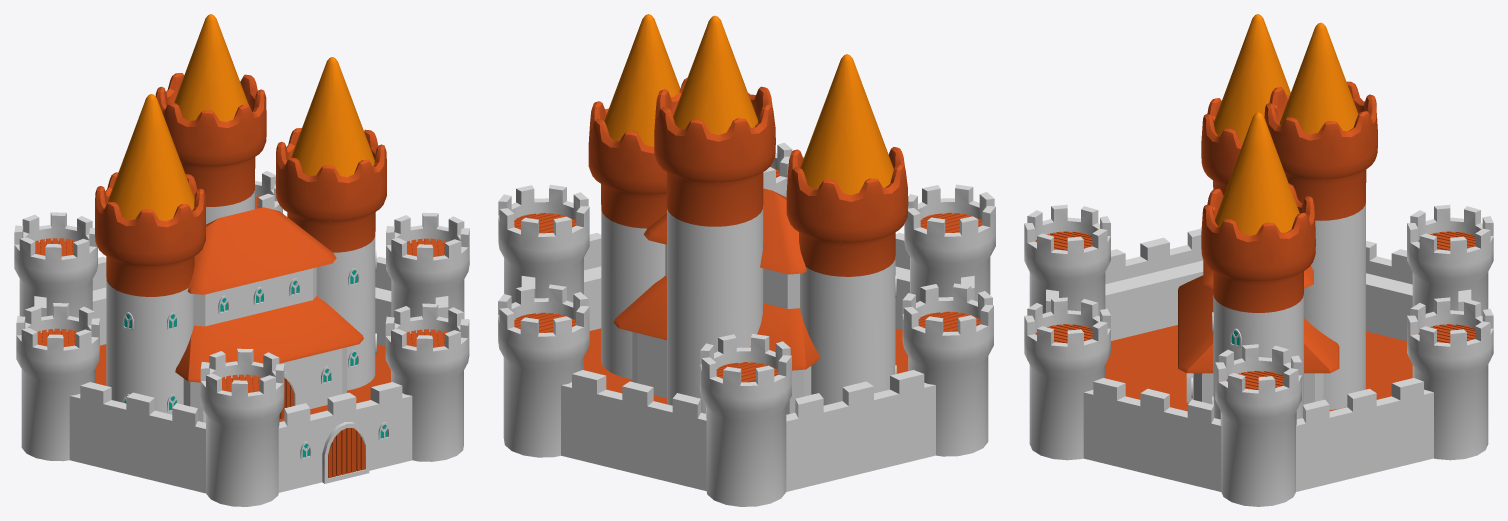
Rendered from Hex_Castle_Upgrade1_Stage1.fbx.
3 renders of one model, left to right at view 1: azimuth 30°, elevation 25°; view 2: azimuth 150°, elevation 25°; view 3: azimuth 270°, elevation 25°, orthographic. The views are drawn at different scales.
Visible parts, largest first — view 1: Hexagon_Castle_Upgrade1_Stage1; view 2: Hexagon_Castle_Upgrade1_Stage1; view 3: Hexagon_Castle_Upgrade1_Stage1.
Boxes of the visible parts, x1,y1,x2,y2 form: Hexagon_Castle_Upgrade1_Stage1: (14,14,469,506); Hexagon_Castle_Upgrade1_Stage1: (498,14,995,506); Hexagon_Castle_Upgrade1_Stage1: (1024,14,1493,506).
Bounding box in the file's own units: 1129 × 890 × 1010.
Materials: 1 (1 with a texture image).
